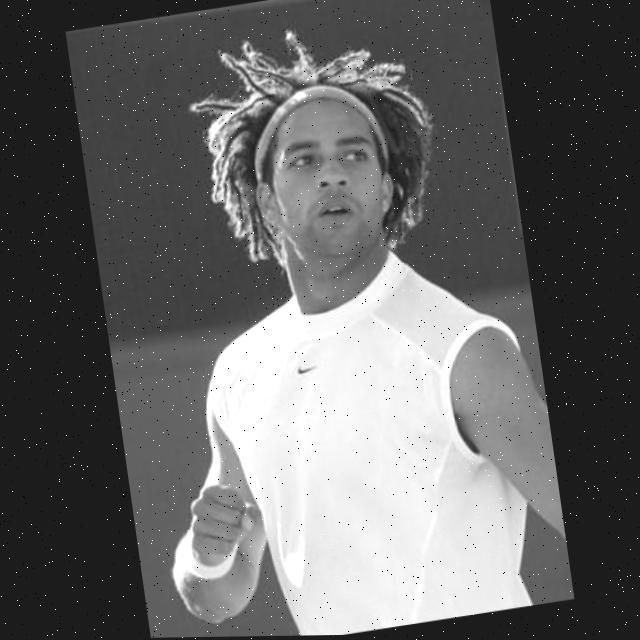face: (240, 82, 425, 292)
